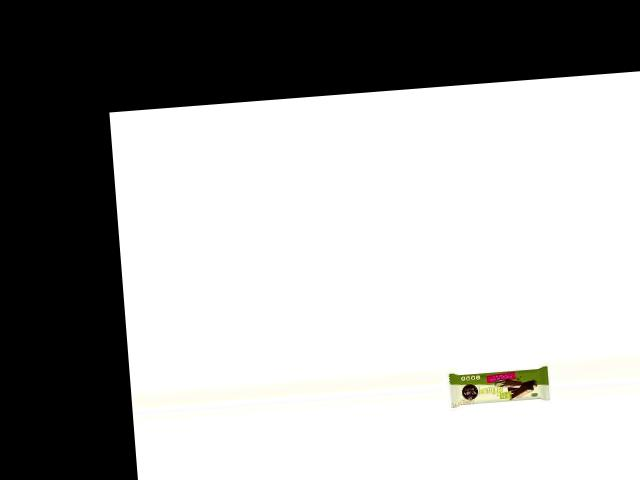chocolate: (449, 362, 552, 410)
